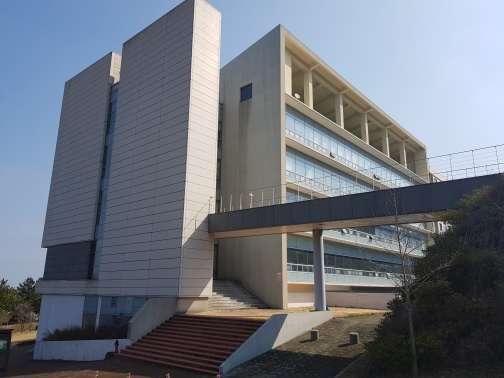Engineering College Building 4: (54, 34, 427, 298), (39, 57, 222, 367), (249, 62, 399, 303), (119, 13, 217, 295)
